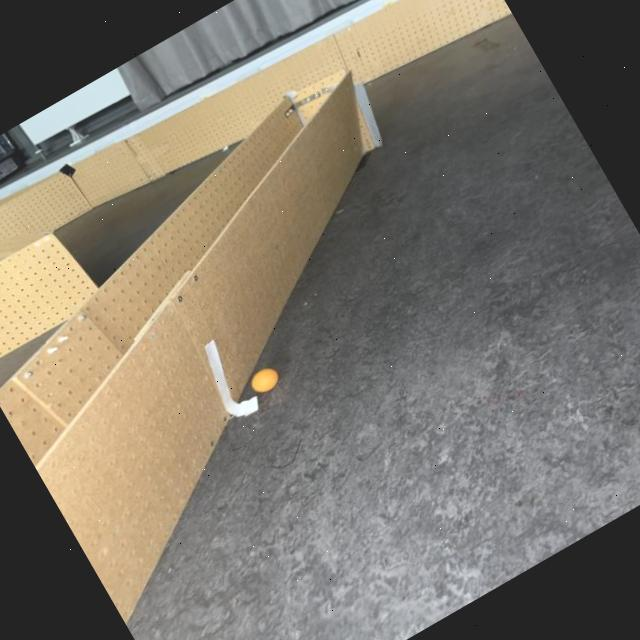ping-pong-ball: (246, 364, 282, 396)
